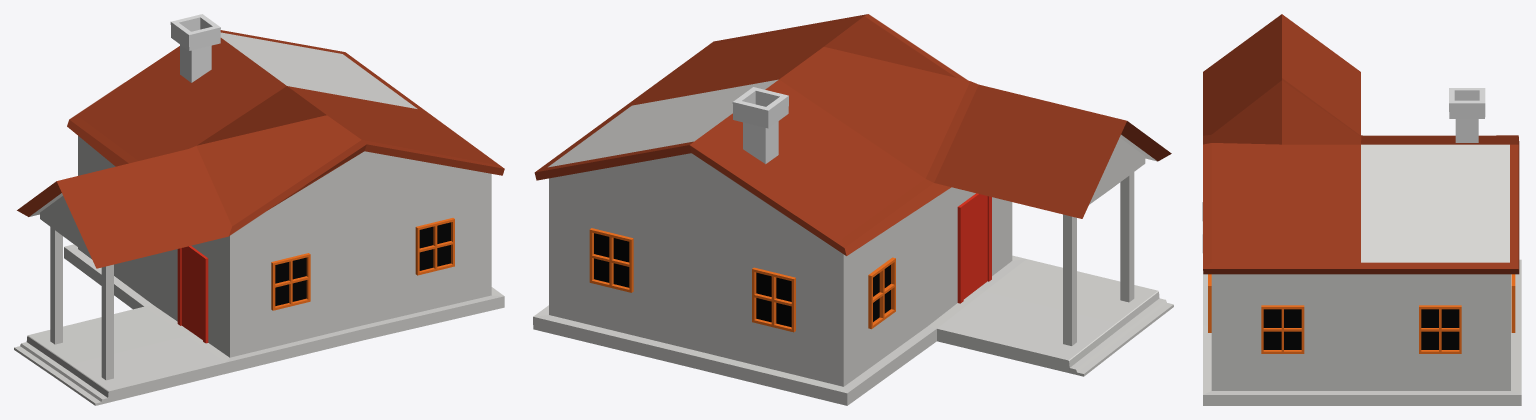
3 renders of one model, left to right at view 1: azimuth 30°, elevation 25°; view 2: azimuth 150°, elevation 25°; view 3: azimuth 270°, elevation 25°, orthographic. The views are drawn at different scales.
Visible parts, largest first — view 1: Plane, Plane.001, Cube.001, Cube.002; view 2: Plane, Plane.001, Cube.001, Cube.002; view 3: Plane, Plane.001, Cube.002.
Boxes of the visible parts, x1,y1,x2,y2 form: Plane: (14,30,504,405); Plane.001: (271,218,454,310); Cube.001: (177,246,208,343); Cube.002: (170,14,220,82); Plane: (533,14,1173,405); Plane.001: (589,228,895,332); Cube.001: (957,193,991,303); Cube.002: (732,87,788,163); Plane: (1202,14,1521,405); Plane.001: (1208,274,1515,353); Cube.002: (1449,88,1485,142).
Bounding box in the file's own units: 297 × 159 × 202.
